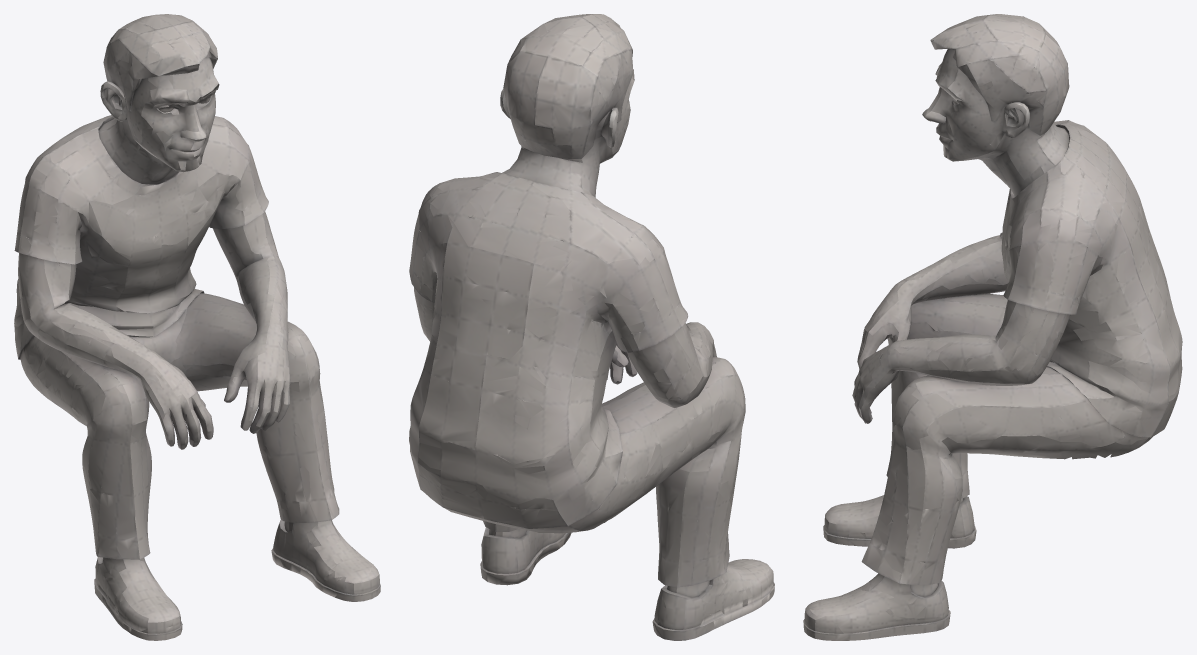
Rendered from spectator_sit.glb.
3 renders of one model, left to right at view 1: azimuth 30°, elevation 25°; view 2: azimuth 150°, elevation 25°; view 3: azimuth 270°, elevation 25°, orthographic. The views are drawn at different scales.
Visible parts, largest first — view 1: Mesh_0; view 2: Mesh_0; view 3: Mesh_0.
Part boxes in pixels (bbox=[...]): Mesh_0: bbox=[14, 14, 380, 640]; Mesh_0: bbox=[409, 14, 774, 640]; Mesh_0: bbox=[803, 14, 1182, 640].
Bounding box in the file's own units: 0.6378 × 1.28 × 0.7922.
Materials: 1 (1 with a texture image).
